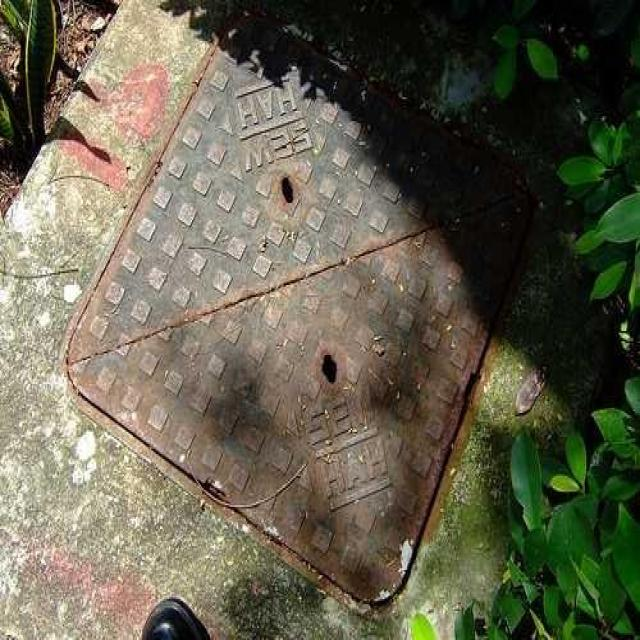manhole: (66, 9, 540, 616)
